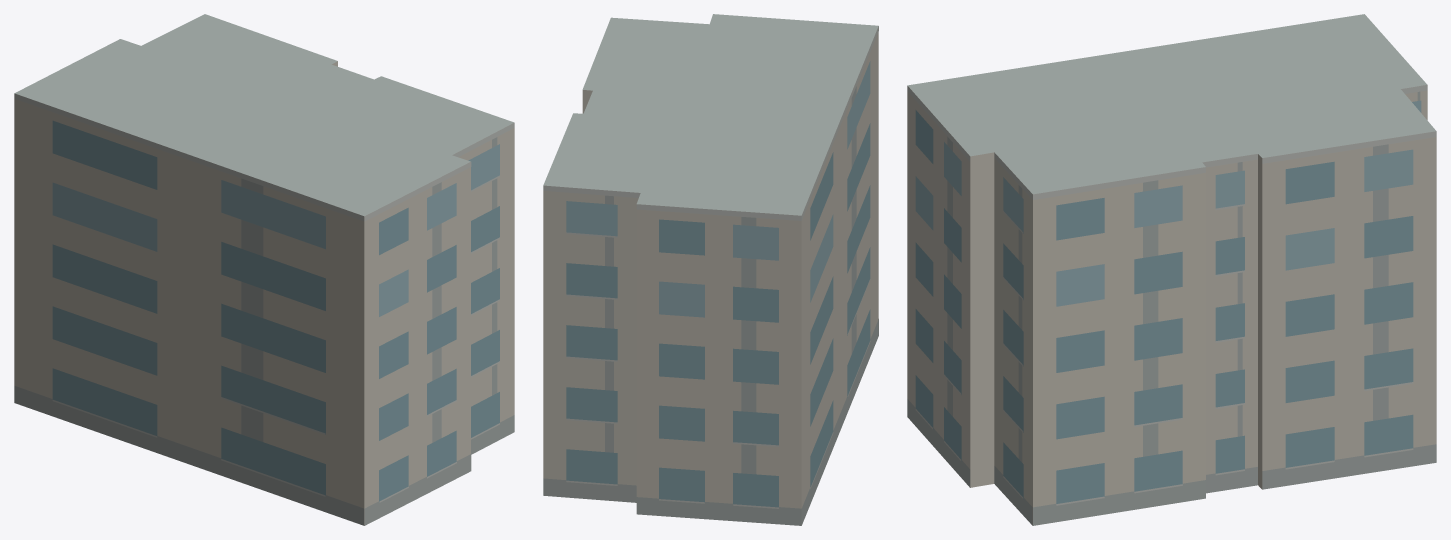
File: survey-upis-32800615.glb
The picture shows the model from 3 angles, left to right: view 1: azimuth 30°, elevation 25°; view 2: azimuth 150°, elevation 25°; view 3: azimuth 270°, elevation 25°; orthographic projection. The views are drawn at different scales.
Parts seen in each view (by area): view 1: survey-upis-32800615.tmp; view 2: survey-upis-32800615.tmp; view 3: survey-upis-32800615.tmp.
Boxes of the visible parts, x1,y1,x2,y2 form: survey-upis-32800615.tmp: (14, 14, 514, 525); survey-upis-32800615.tmp: (543, 14, 878, 525); survey-upis-32800615.tmp: (907, 14, 1436, 525).
Bounding box in the file's own units: 16.58 × 14.2 × 20.56.
